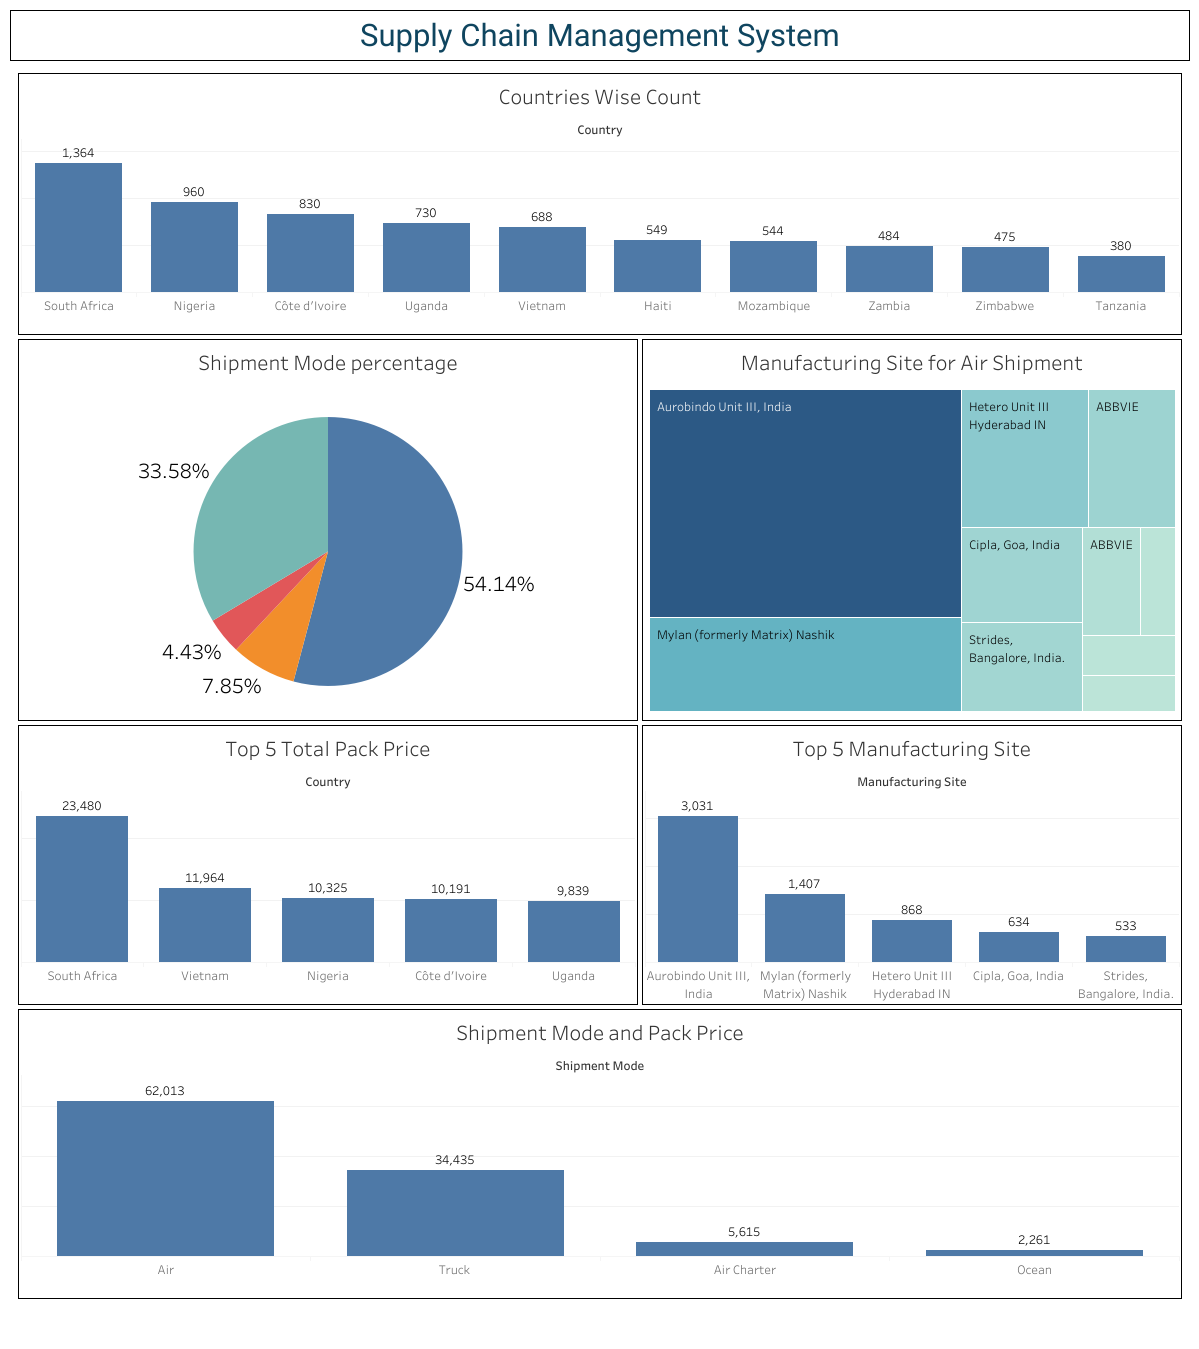

The page's visual inventory and layout, read from the dashboard file:
{"tool":"tableau","page":{"name":"Healthcare ","canvas":[1080,592],"ordinal":0},"visuals":[{"type":"image","param":"Image/iidt_logo_137.png","box":[12,5,143,40]},{"type":"title","box":[159,6,599,40]},{"type":"filter","title":"KPI 1","param":"[federated.0kv4uy40bmznxu1dg5snp0v5v6kg].[none:Facility Name:nk]","box":[763,6,153,40]},{"type":"filter","title":"KPI 1","param":"[federated.0kv4uy40bmznxu1dg5snp0v5v6kg].[none:County:nk]","box":[922,6,145,39]},{"type":"blank","box":[8,8,1064,38]},{"type":"worksheet","title":"KPI 1","mark":"Automatic","box":[8,46,450,250]},{"type":"worksheet","title":"KPI 5","mark":"Automatic","box":[458,46,352,250]},{"type":"worksheet","title":"KPI 6","mark":"Automatic","box":[810,46,262,102]},{"type":"worksheet","title":"KPI 2","mark":"Pie","box":[810,148,262,148]},{"type":"worksheet","title":"KPI 3","mark":"Automatic","box":[8,296,450,288]},{"type":"worksheet","title":"KPI 4","mark":"Automatic","rows":["Facility Name"],"cols":["# of Dialysis Stations"],"box":[458,296,614,288]}]}

Visuals, with their boxes on the page's 1080x592 design canvas (x1, y1, x2, y2). These are canvas units, not pixel positions in the 1199x1349 screenshot, which may show the page scaled, cropped or inside an application window:
image: <region>12, 5, 155, 45</region>
title: <region>159, 6, 758, 46</region>
"KPI 1" filter: <region>763, 6, 916, 46</region>
"KPI 1" filter: <region>922, 6, 1067, 45</region>
blank: <region>8, 8, 1072, 46</region>
"KPI 1" worksheet: <region>8, 46, 458, 296</region>
"KPI 5" worksheet: <region>458, 46, 810, 296</region>
"KPI 6" worksheet: <region>810, 46, 1072, 148</region>
"KPI 2" worksheet (Pie marks): <region>810, 148, 1072, 296</region>
"KPI 3" worksheet: <region>8, 296, 458, 584</region>
"KPI 4" worksheet: <region>458, 296, 1072, 584</region>
